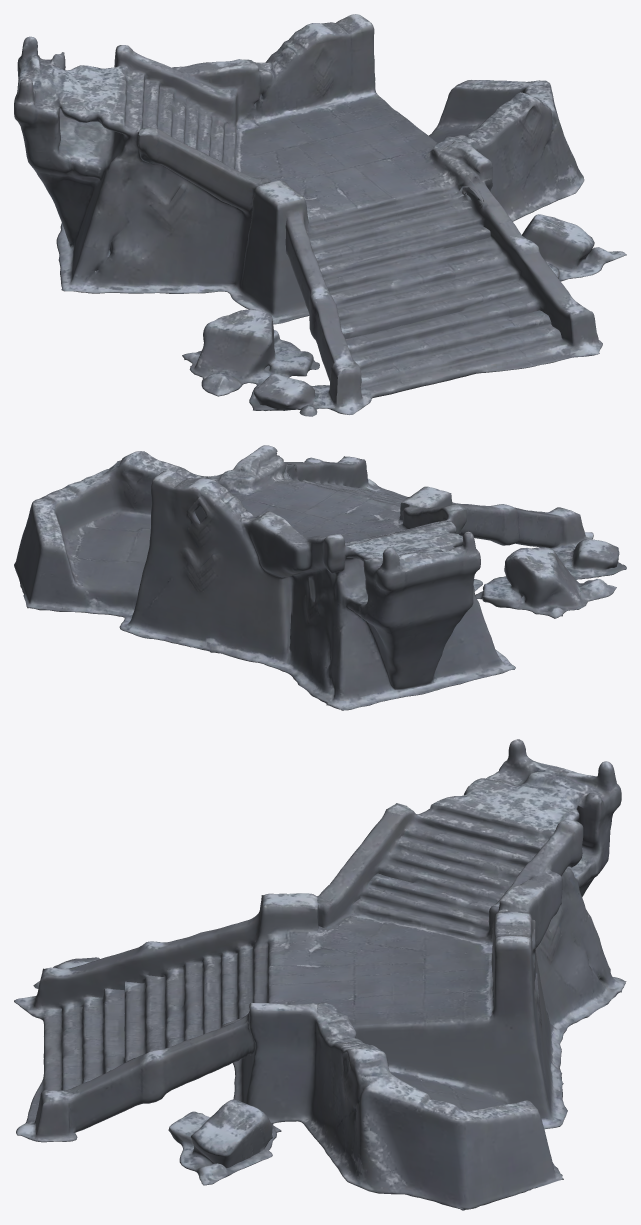
The model's file is escalera_ruina.glb.
3 views of the same model, one above another, from view 1: azimuth 30°, elevation 25°; view 2: azimuth 150°, elevation 25°; view 3: azimuth 270°, elevation 25° (orthographic). The views are drawn at different scales.
Visible parts, largest first — view 1: tripo_node_3f638266; view 2: tripo_node_3f638266; view 3: tripo_node_3f638266.
Boxes of the visible parts, x1,y1,x2,y2 form: tripo_node_3f638266: [14, 14, 626, 416]; tripo_node_3f638266: [14, 445, 626, 710]; tripo_node_3f638266: [14, 739, 626, 1210].
Bounding box in the file's own units: 99.45 × 35.43 × 91.17.
Materials: 1 (1 with a texture image).
